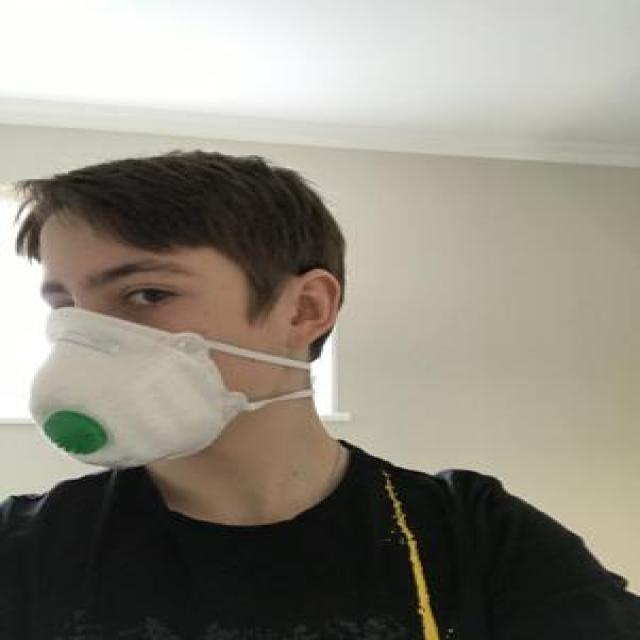with_mask: (24, 244, 265, 468)
